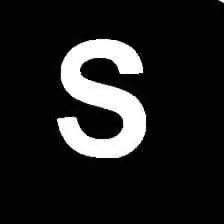LTR_S: (52, 31, 148, 159)
